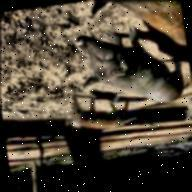boar: (72, 20, 190, 116)
